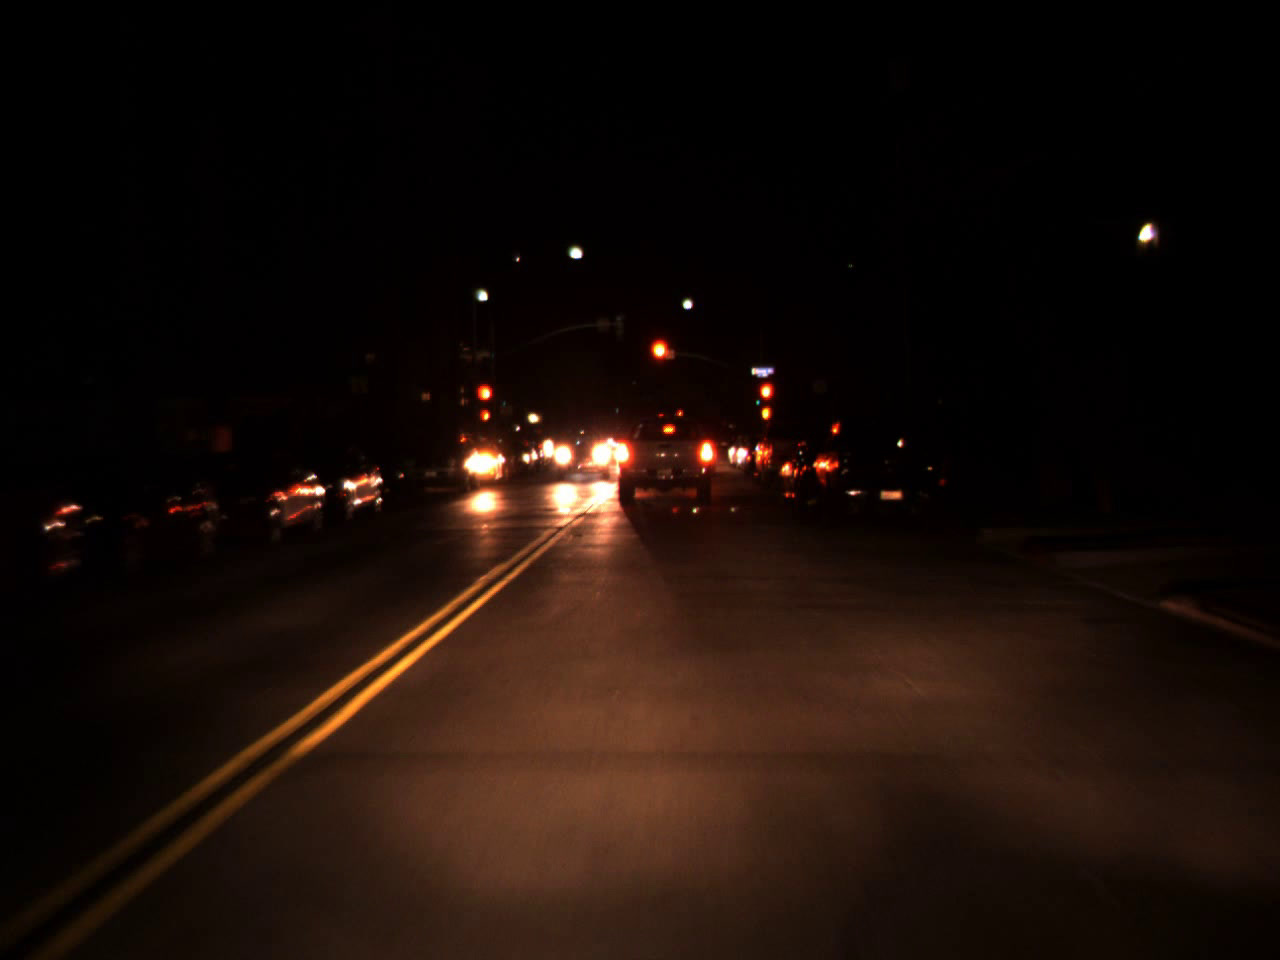stop: (647, 336, 672, 384), (474, 382, 495, 419), (757, 380, 775, 419)
